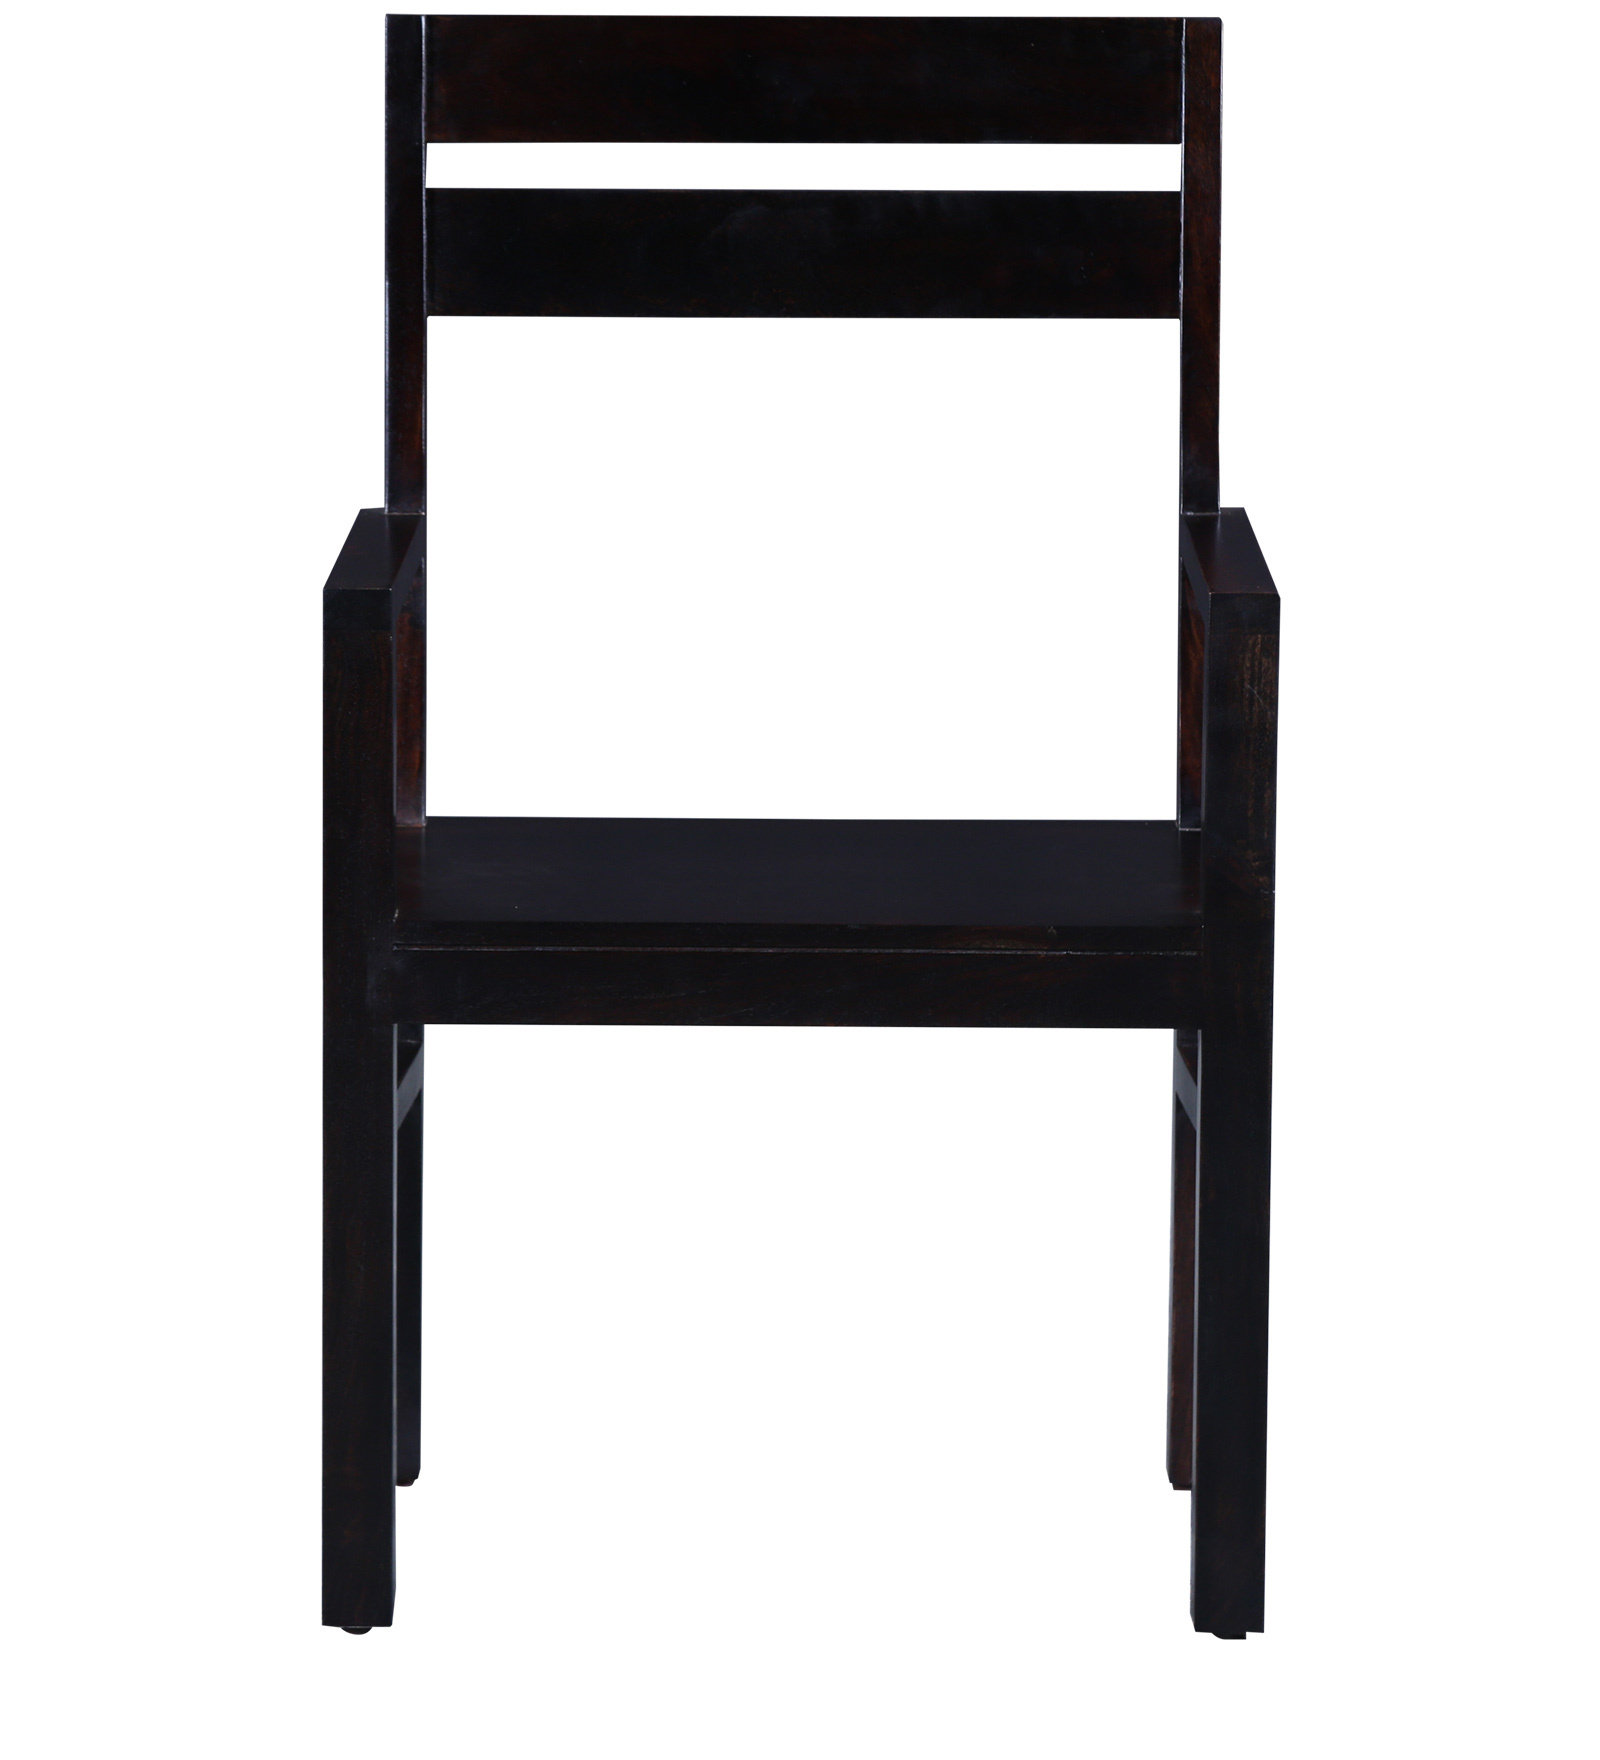Enkel Arm Chair in Warm Chestnut Finish by Woodsworth: (314, 2, 1306, 1670)
